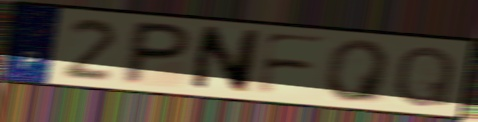2: (62, 17, 120, 81)
F: (252, 30, 331, 97)
N: (187, 24, 265, 96)
P: (117, 19, 197, 86)
Q: (323, 38, 395, 105), (390, 43, 458, 110)
